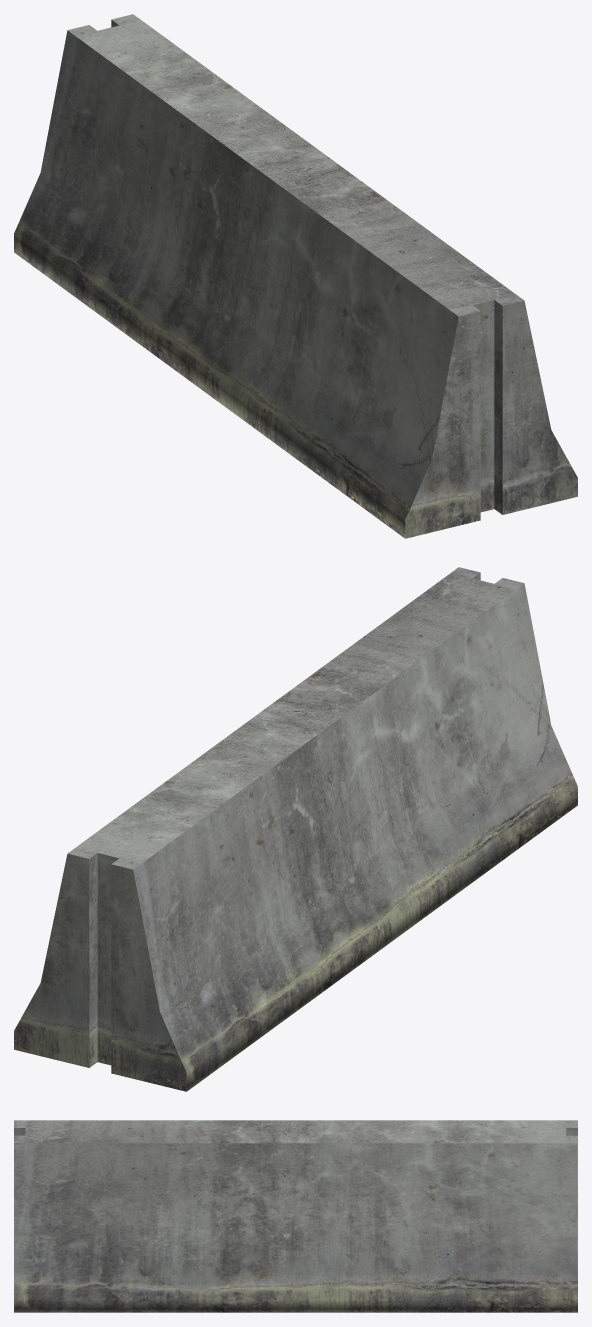
The model's file is concrete_barrier.fbx.
3 renders of one model, top to bottom at view 1: azimuth 30°, elevation 25°; view 2: azimuth 150°, elevation 25°; view 3: azimuth 270°, elevation 25°, orthographic. The views are drawn at different scales.
Parts seen in each view (by area): view 1: Plane; view 2: Plane; view 3: Plane.
Part boxes in pixels (x1,y1,x2,y2): Plane: (14, 14, 577, 538); Plane: (14, 567, 577, 1091); Plane: (14, 1120, 577, 1312).
Bounding box in the file's own units: 0.345 × 0.3993 × 1.35.
